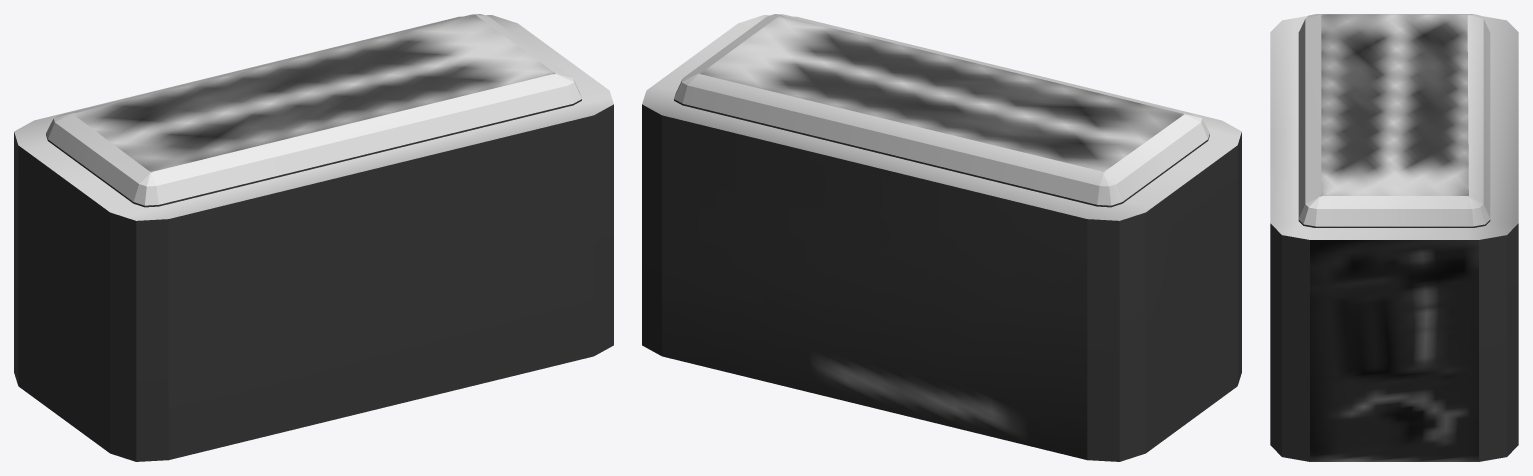
File: Toaster.fbx
The picture shows the model from 3 angles, left to right: view 1: azimuth 30°, elevation 25°; view 2: azimuth 150°, elevation 25°; view 3: azimuth 270°, elevation 25°; orthographic projection. The views are drawn at different scales.
Visible parts, largest first — view 1: Toaster; view 2: Toaster; view 3: Toaster.
Part boxes in pixels (left/top/right/bottom): Toaster: left=14, top=14, right=613, bottom=461; Toaster: left=642, top=14, right=1241, bottom=461; Toaster: left=1270, top=14, right=1518, bottom=461.
Size of the model in its own units: 65.64 by 33.31 by 30.67.
